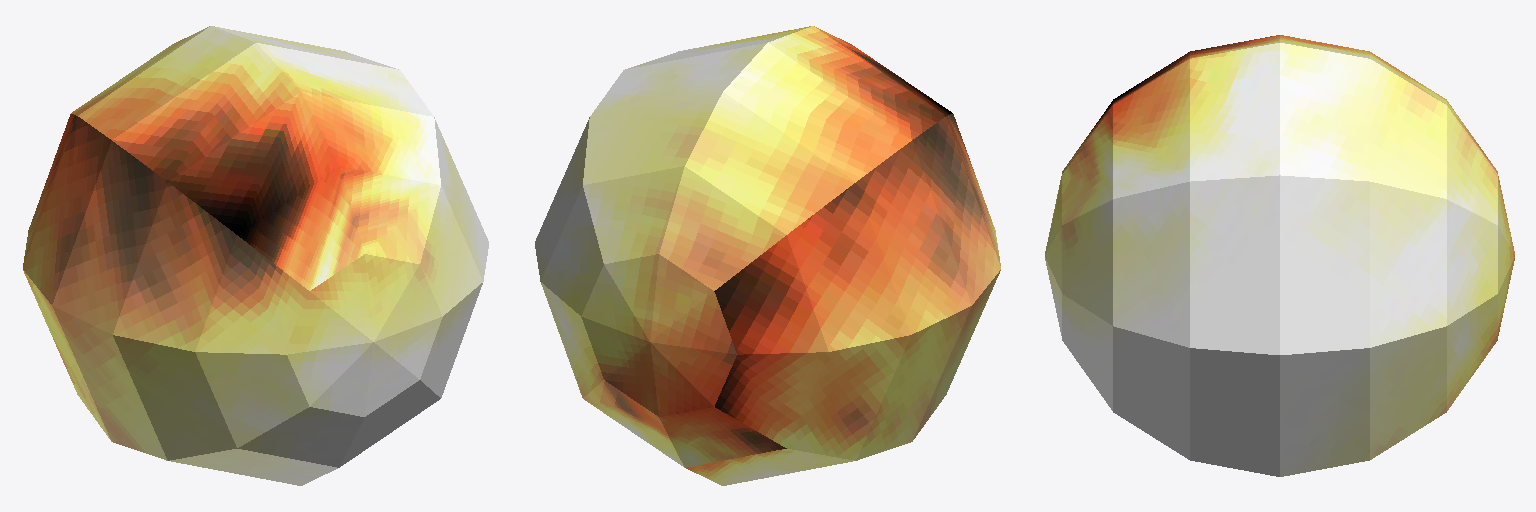
3 renders of one model, left to right at view 1: azimuth 30°, elevation 25°; view 2: azimuth 150°, elevation 25°; view 3: azimuth 270°, elevation 25°, orthographic.
Size of the model in its own units: 0.4491 by 0.4491 by 0.4491.
1 materials, 1 textured.